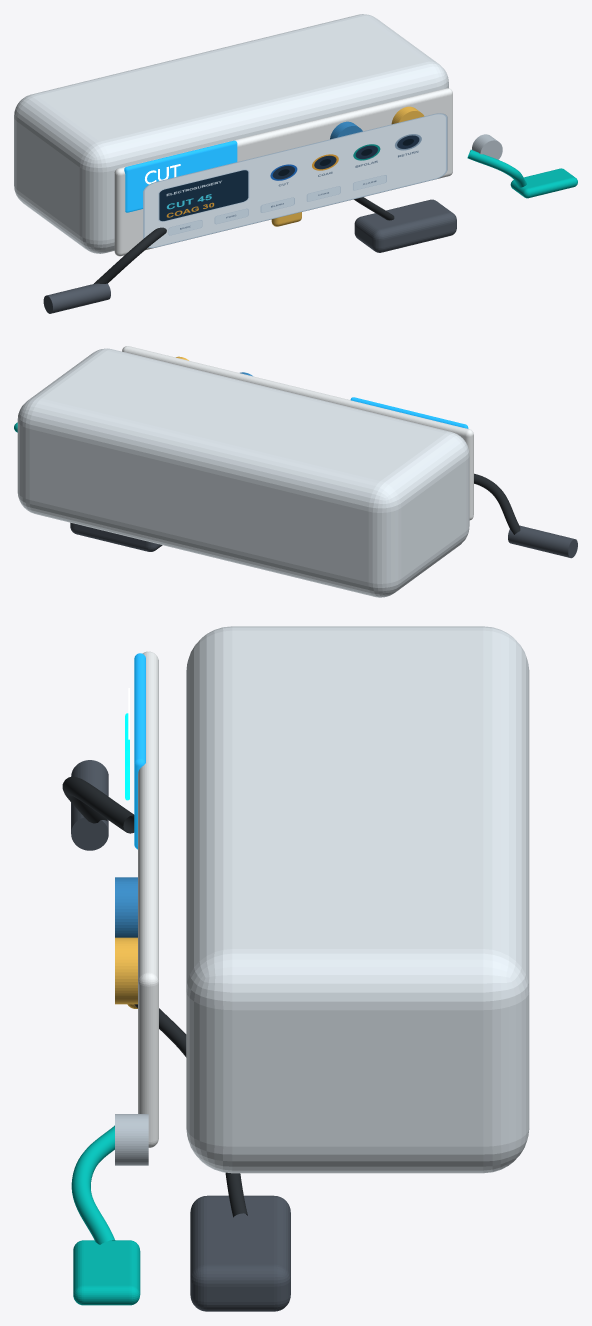
Rendered from electrosurgery.glb.
3 renders of one model, top to bottom at view 1: azimuth 30°, elevation 25°; view 2: azimuth 150°, elevation 25°; view 3: azimuth 270°, elevation 25°, orthographic. The views are drawn at different scales.
Parts seen in each view (by area): view 1: esu body, photo-real electrosurgery fascia, esu front fascia, foot pedal, esu display, active pencil handpiece, return electrode pad, active pencil cable, return pad cable, return port; view 2: esu body, esu front fascia, active pencil handpiece, foot pedal, active pencil cable, esu display; view 3: esu body, foot pedal, esu front fascia, return electrode pad, return pad cable, active pencil cable, active pencil handpiece, return port, esu display, coag output, cut output, foot pedal cable.
Part boxes in pixels (box(x1,y1,x2,y2)): esu body: box(14, 14, 448, 253); photo-real electrosurgery fascia: box(143, 113, 447, 248); esu front fascia: box(114, 88, 452, 256); foot pedal: box(354, 199, 456, 252); esu display: box(124, 140, 237, 212); active pencil handpiece: box(43, 283, 110, 313); return electrode pad: box(510, 168, 577, 198); active pencil cable: box(94, 227, 166, 283); return pad cable: box(467, 149, 526, 187); return port: box(472, 134, 502, 159); esu body: box(17, 348, 469, 597); esu front fascia: box(122, 346, 473, 520); active pencil handpiece: box(508, 525, 577, 558); foot pedal: box(70, 522, 162, 551); active pencil cable: box(474, 473, 520, 534); esu display: box(350, 397, 468, 428); esu body: box(186, 626, 529, 1173); foot pedal: box(190, 1195, 290, 1311); esu front fascia: box(138, 651, 158, 1147); return electrode pad: box(73, 1240, 140, 1305); return pad cable: box(71, 1125, 115, 1244); active pencil cable: box(62, 776, 134, 833); active pencil handpiece: box(71, 760, 108, 850); return port: box(115, 1114, 148, 1165); esu display: box(134, 653, 145, 849); coag output: box(115, 937, 137, 1004); cut output: box(115, 877, 137, 937); foot pedal cable: box(134, 1004, 247, 1217).
Size of the model in its own units: 2.91 by 0.91 by 1.12.
Materials: 12 (1 with a texture image).
